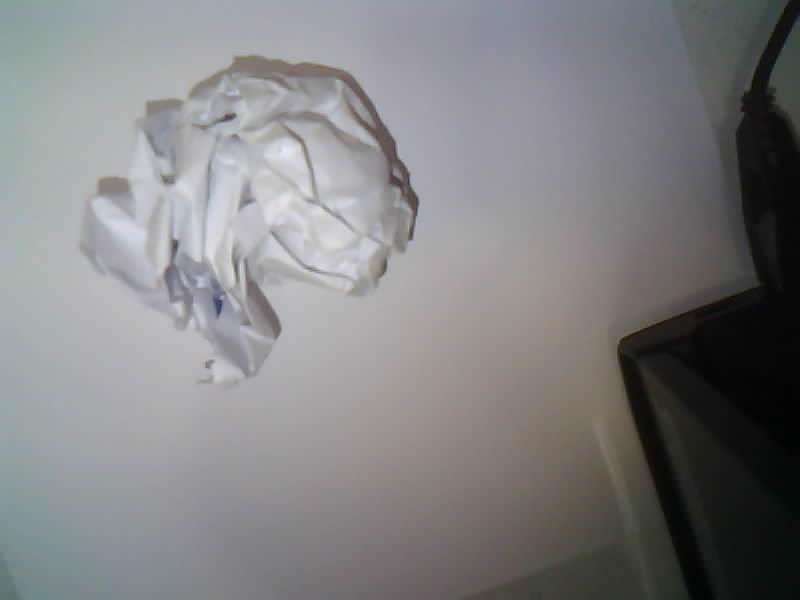biodegradable: (81, 65, 416, 382)
